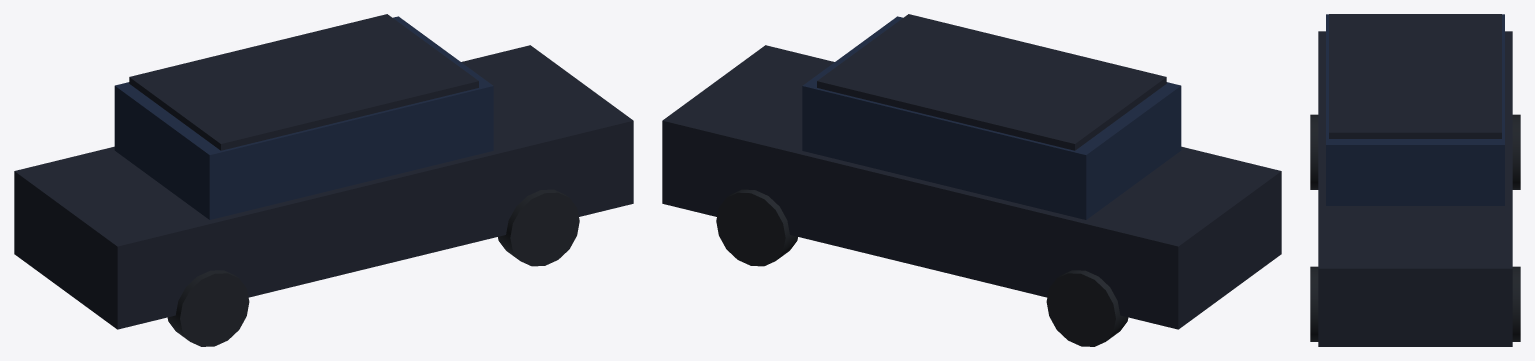
The model's file is van.glb.
3 renders of one model, left to right at view 1: azimuth 30°, elevation 25°; view 2: azimuth 150°, elevation 25°; view 3: azimuth 270°, elevation 25°, orthographic. The views are drawn at different scales.
Visible parts, largest first — view 1: Body, Cabin, Roof, Wheel (×2); view 2: Body, Cabin, Roof, Wheel (×2); view 3: Body, Roof, Cabin, Wheel (×4).
Part boxes in pixels (bbox=[...]): Body: bbox=[14, 45, 633, 329]; Cabin: bbox=[114, 16, 493, 219]; Roof: bbox=[129, 14, 478, 150]; Wheel (×2): bbox=[167, 189, 579, 346]; Body: bbox=[662, 45, 1281, 329]; Cabin: bbox=[802, 16, 1181, 219]; Roof: bbox=[817, 14, 1166, 150]; Wheel (×2): bbox=[716, 189, 1128, 346]; Body: bbox=[1318, 31, 1512, 346]; Roof: bbox=[1329, 14, 1501, 138]; Cabin: bbox=[1326, 14, 1504, 205]; Wheel (×4): bbox=[1310, 114, 1520, 341].
Bounding box in the file's own units: 5.2 × 1.84 × 1.95.
